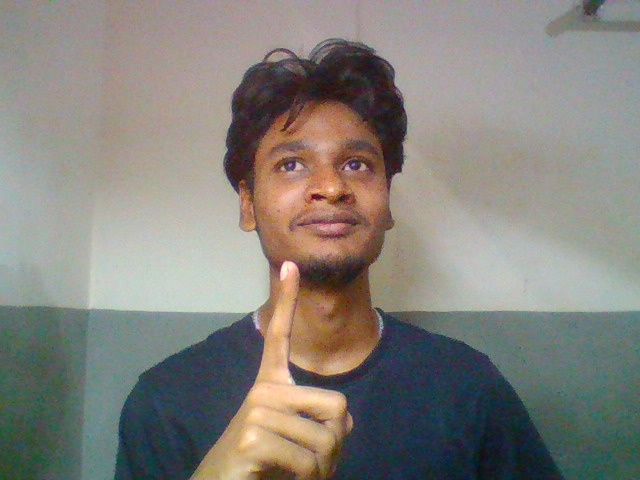I: (202, 242, 359, 479)
